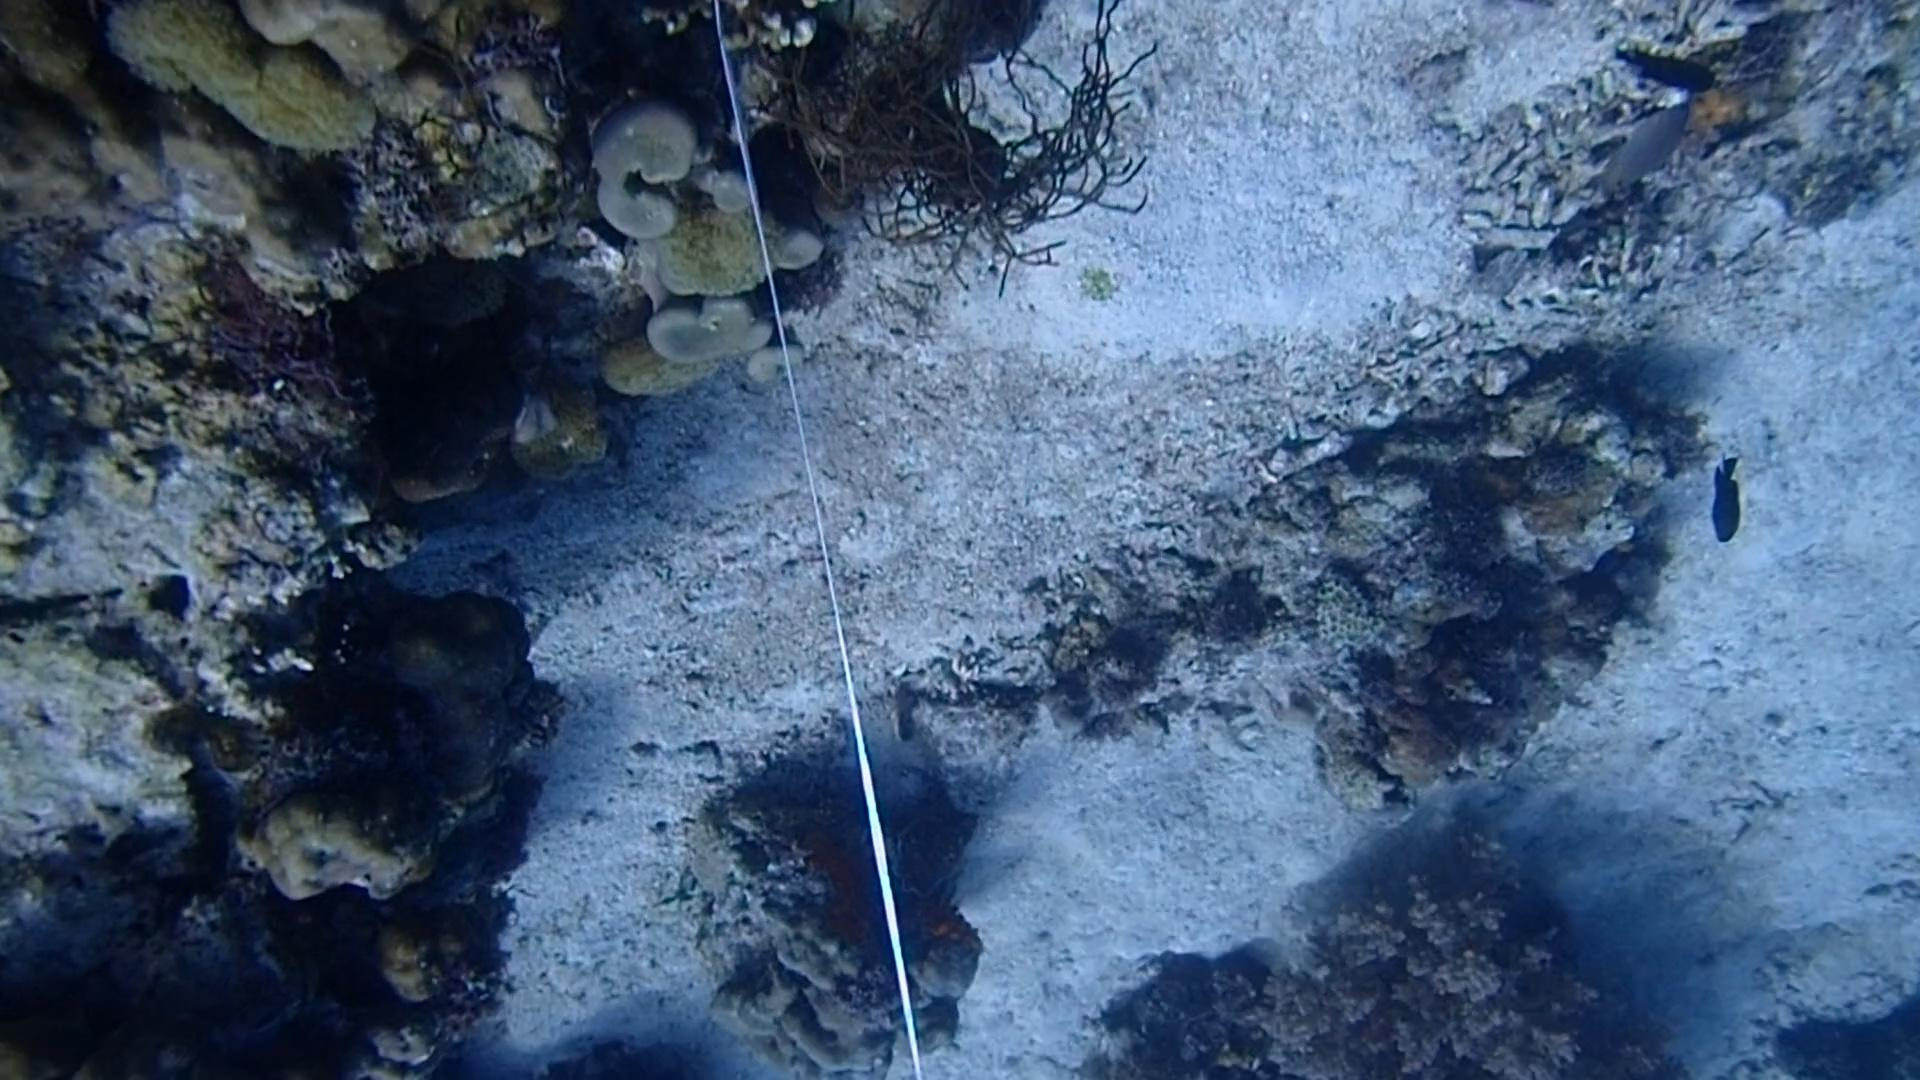Dark Fish: (1692, 456, 1762, 553), (1611, 42, 1720, 99)
Light Fish: (1582, 98, 1702, 208)
